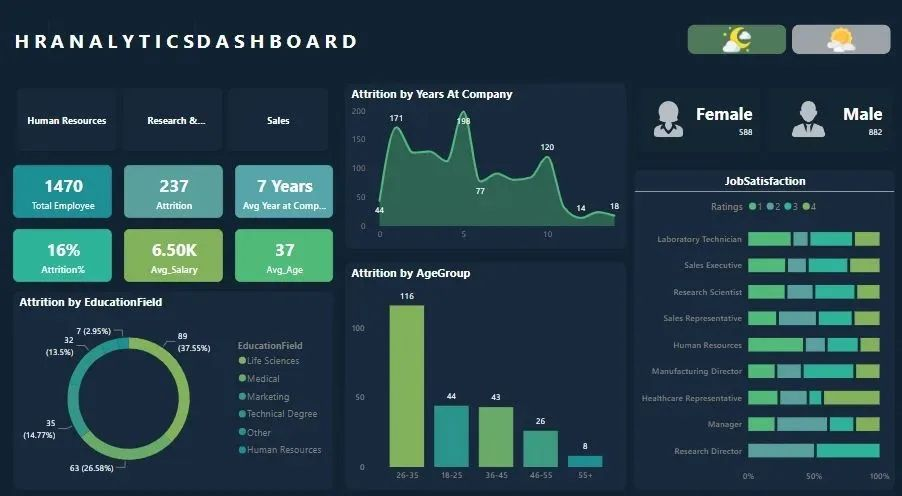

What the dashboard file says about the page in this screenshot:
{"tool":"powerbi","page":{"name":"HR Analytics Dashboard - Light &Dark Theme","canvas":[1280,720],"ordinal":1},"visuals":[{"type":"shape","box":[0,0,1279.8,720],"z":0},{"type":"shape","box":[19.8,39.7,51,52.4],"z":0,"group":"g1"},{"type":"shape","box":[70.8,39.7,206.9,52.4],"z":1000,"group":"g1"},{"type":"image","box":[918.4,143.1,60.9,70.9],"z":1000},{"type":"shape","box":[277.8,39.7,229.6,52.4],"z":2000,"group":"g1"},{"type":"image","box":[1116.9,143.1,60.9,70.9],"z":2000},{"type":"card","fields":{"Values":["HR_Analytics.Employee_Attrition"]},"box":[177.2,243.8,140.3,75.1],"z":3000},{"type":"card","fields":{"Values":["HR_Analytics.Employee_Count"]},"box":[19.8,243.8,140.3,75.1],"z":4000},{"type":"card","fields":{"Values":["HR_Analytics.Years_with_Text"]},"box":[334.5,243.8,138.9,75.1],"z":5000},{"type":"card","fields":{"Values":["HR_Analytics.Attrition%"]},"box":[19.8,334.5,140.3,75.1],"z":6000},{"type":"card","fields":{"Values":["HR_Analytics.Avg_Salary"]},"box":[177.2,334.5,140.3,75.1],"z":7000},{"type":"card","fields":{"Values":["HR_Analytics.Avg_Age"]},"box":[334.5,334.5,138.9,75.1],"z":8000},{"type":"areaChart","title":"Attrition by Years At Company","fields":{"Category":["HR_Analytics.YearsAtCompany"],"Y":["CountNonNull(HR_Analytics.Attrition)"]},"box":[491,128.2,398.9,234.7],"z":9000},{"type":"clusteredColumnChart","title":"Attrition by AgeGroup","fields":{"Category":["HR_Analytics.AgeGroup"],"Y":["HR_Analytics.Employee_Attrition"]},"box":[491,381.6,398.9,322.6],"z":10000},{"type":"hundredPercentStackedBarChart","title":"JobSatisfaction","fields":{"Y":["HR_Analytics.Employee_Attrition"],"Series":["HR_Analytics.JobSatisfaction"],"Category":["HR_Analytics.JobRole"]},"box":[900,250.6,370.1,453.6],"z":11000},{"type":"advancedSlicerVisual","fields":{"Values":["HR_Analytics.Gender"]},"box":[899.6,128.7,370.3,100],"z":12000},{"type":"advancedSlicerVisual","fields":{"Values":["HR_Analytics.Department"]},"box":[19.8,129,453.5,100.6],"z":13000},{"type":"donutChart","title":"Attrition by EducationField","fields":{"Y":["HR_Analytics.Employee_Attrition"],"Category":["HR_Analytics.EducationField"]},"box":[19.8,422.4,453.5,282],"z":14000},{"type":"advancedSlicerVisual","fields":{"Values":["Dark Mode.Label"]},"box":[970.9,39.7,299.1,52.4],"z":15000},{"type":"group","id":"g1","title":"Group 1","box":[19.8,39.7,487.6,52.4],"z":16003}]}

Visuals, with their boxes in screenshot pixels (x1, y1, x2, y2), scaled from the page's 1280x720 canvas onto the 902x496 screenshot:
shape: (0,0,901,495)
shape: (14,27,50,63)
shape: (50,27,196,63)
image: (647,99,690,147)
shape: (196,27,358,63)
image: (787,99,830,147)
card - HR_Analytics.Employee_Attrition: (125,168,224,220)
card - HR_Analytics.Employee_Count: (14,168,113,220)
card - HR_Analytics.Years_with_Text: (236,168,334,220)
card - HR_Analytics.Attrition%: (14,230,113,282)
card - HR_Analytics.Avg_Salary: (125,230,224,282)
card - HR_Analytics.Avg_Age: (236,230,334,282)
"Attrition by Years At Company" areaChart: (346,88,627,250)
"Attrition by AgeGroup" clusteredColumnChart: (346,263,627,485)
"JobSatisfaction" hundredPercentStackedBarChart: (634,173,895,485)
advancedSlicerVisual - HR_Analytics.Gender: (634,89,895,158)
advancedSlicerVisual - HR_Analytics.Department: (14,89,334,158)
"Attrition by EducationField" donutChart: (14,291,334,485)
advancedSlicerVisual - Dark Mode.Label: (684,27,895,63)
"Group 1" group: (14,27,358,63)
